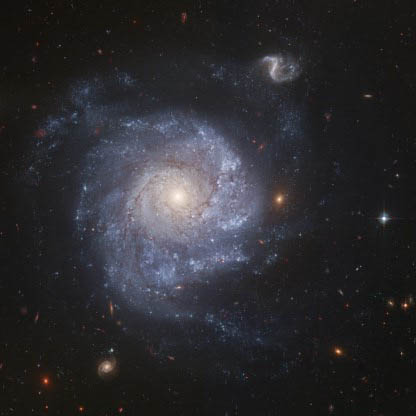NGC 1309: (42, 45, 350, 394)
